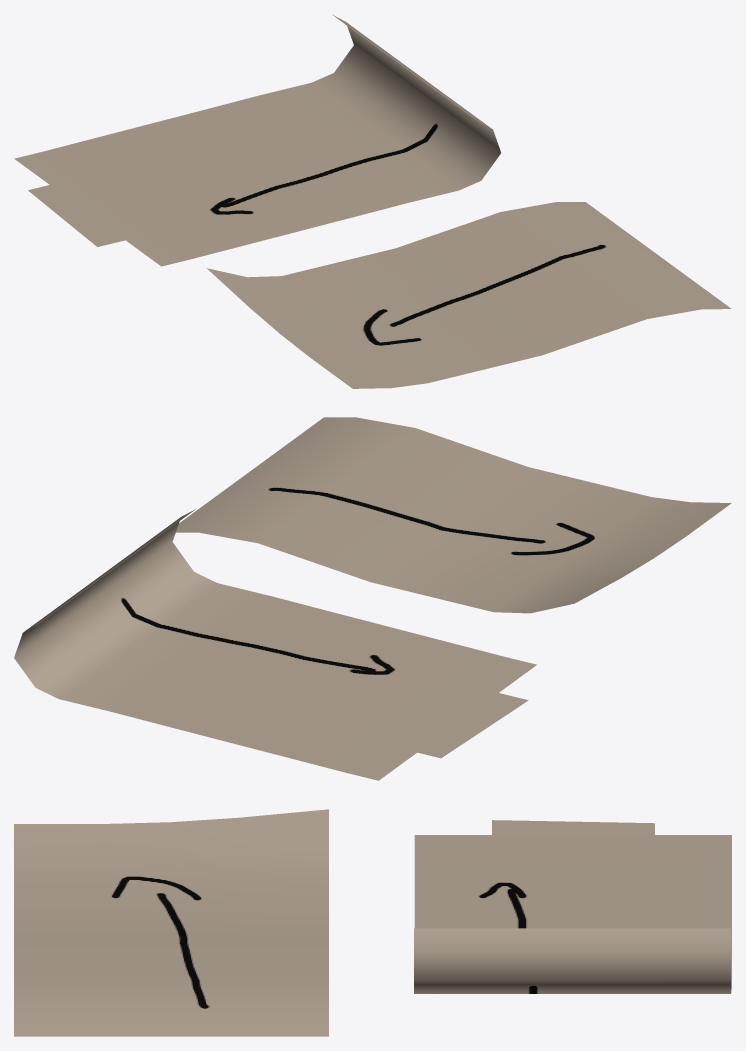
Rendered from Notes.fbx.
3 renders of one model, top to bottom at view 1: azimuth 30°, elevation 25°; view 2: azimuth 150°, elevation 25°; view 3: azimuth 270°, elevation 25°, orthographic. The views are drawn at different scales.
Parts seen in each view (by area): view 1: DeliveryCrateNote, DemoEndNote; view 2: DeliveryCrateNote, DemoEndNote; view 3: DemoEndNote, DeliveryCrateNote.
Boxes of the visible parts, x1,y1,x2,y2 form: DeliveryCrateNote: (14, 15, 500, 266); DemoEndNote: (207, 202, 731, 388); DeliveryCrateNote: (14, 509, 536, 780); DemoEndNote: (176, 417, 731, 613); DemoEndNote: (14, 809, 328, 1036); DeliveryCrateNote: (414, 820, 731, 993).
Bounding box in the file's own units: 31.88 × 5 × 44.67.
